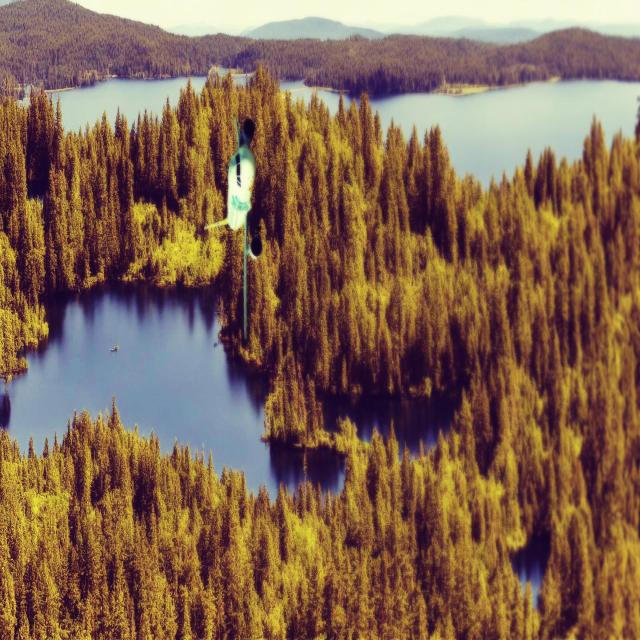airplane: (203, 114, 263, 341)
